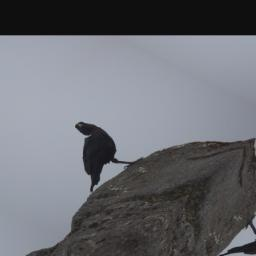Crow: (30, 117, 151, 196)
